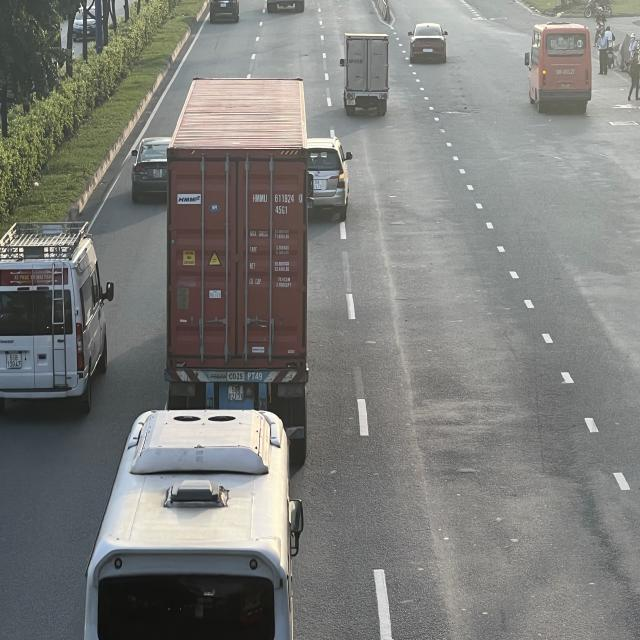car: (306, 140, 355, 221), (132, 140, 172, 204), (408, 23, 448, 66)
coach: (83, 408, 305, 636)
container: (171, 80, 312, 426)
truck: (340, 34, 388, 118)
van: (0, 220, 111, 414), (528, 25, 594, 112)
